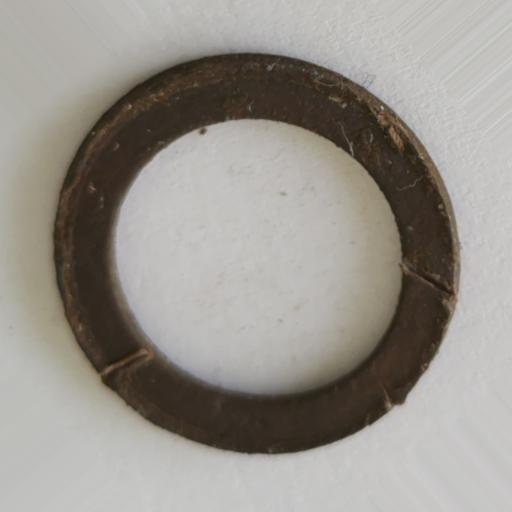defect: (399, 260, 458, 302), (97, 347, 155, 383), (382, 383, 400, 413)
